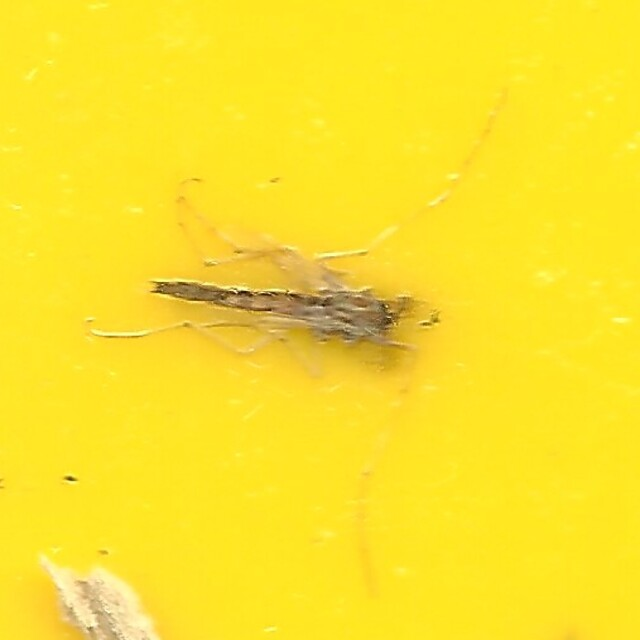Nematocera: (126, 112, 514, 528)
